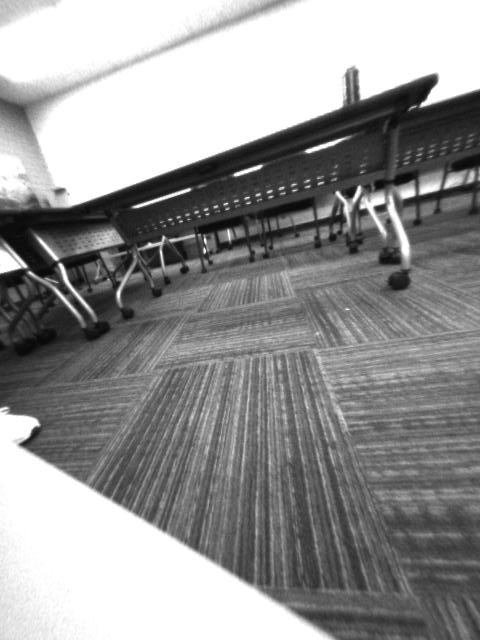can: (343, 63, 363, 108)
